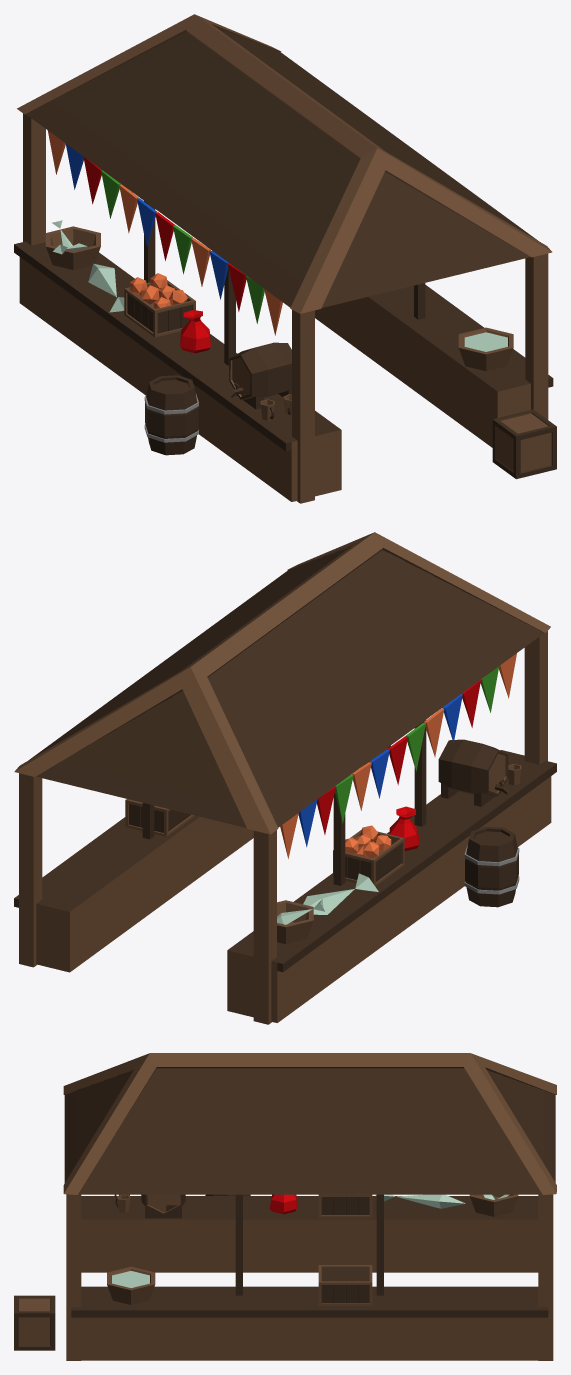
Rendered from market_mat.fbx.
3 views of the same model, one above another, from view 1: azimuth 30°, elevation 25°; view 2: azimuth 150°, elevation 25°; view 3: azimuth 270°, elevation 25° (orthographic). The views are drawn at different scales.
Parts seen in each view (by area): view 1: market_mat; view 2: market_mat; view 3: market_mat.
Boxes of the visible parts, x1,y1,x2,y2 form: market_mat: (14,14,556,503); market_mat: (14,532,556,1024); market_mat: (14,1053,556,1360).
Bounding box in the file's own units: 310 × 272 × 525.
